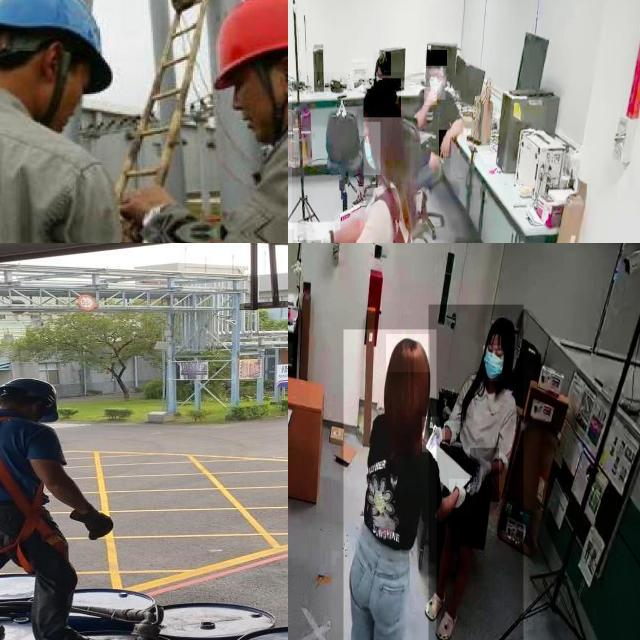Harness: (0, 418, 73, 581)
face_mask: (364, 122, 381, 175), (483, 345, 503, 381), (424, 68, 446, 100)
face_nomask: (220, 76, 264, 138)
hand_glove: (470, 448, 499, 502), (449, 479, 471, 518), (422, 417, 445, 452), (306, 220, 335, 243)
hand_noglove: (116, 178, 176, 224), (439, 130, 451, 159), (424, 87, 438, 106)
head_helmet: (0, 0, 117, 97), (211, 0, 288, 89)
head_nohelmet: (386, 334, 430, 373), (364, 78, 402, 118), (485, 316, 517, 338), (374, 52, 392, 76), (426, 50, 448, 66)
person: (428, 304, 523, 640), (0, 0, 124, 243), (343, 329, 436, 640), (296, 72, 410, 243), (210, 0, 288, 243), (418, 45, 466, 182)
